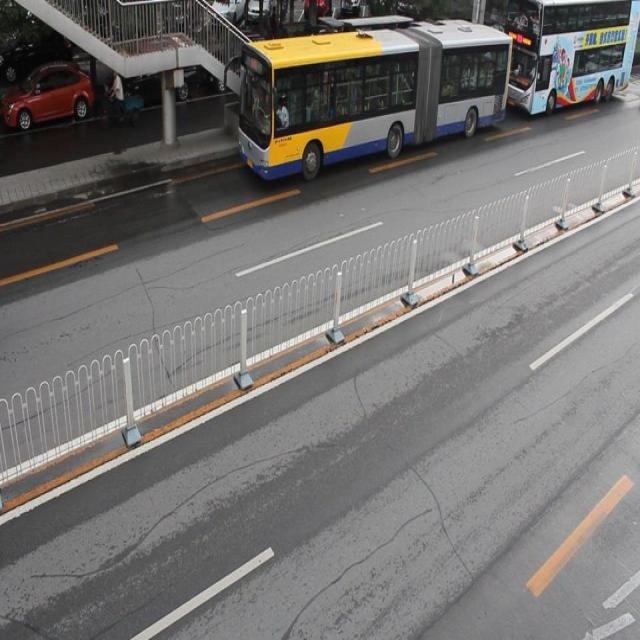car: (1, 61, 93, 129), (103, 44, 196, 105), (290, 28, 362, 87), (208, 32, 275, 94)
van: (239, 22, 510, 170), (504, 1, 640, 115)
